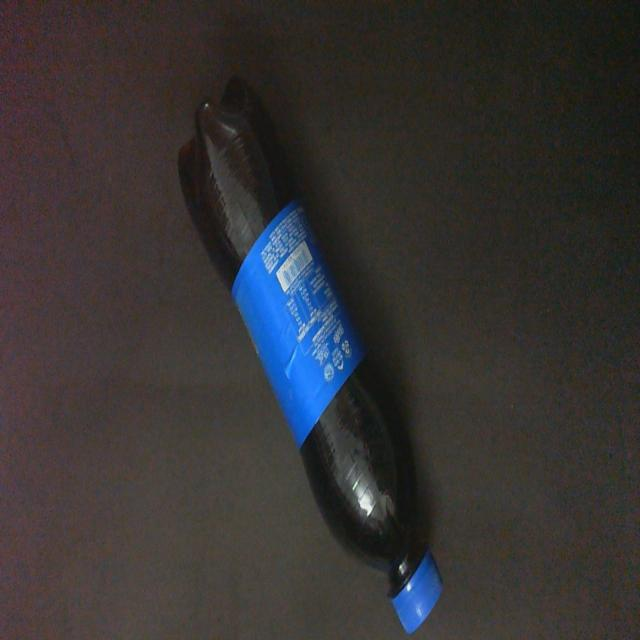non-defect: (175, 72, 446, 640)
